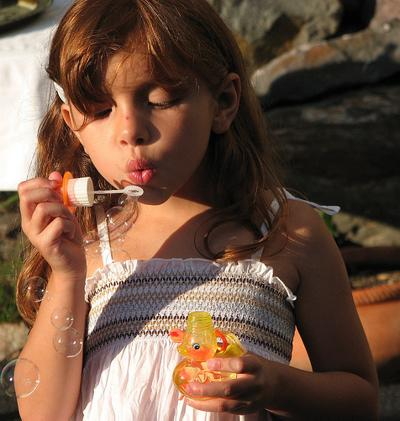person: (15, 3, 383, 421)
